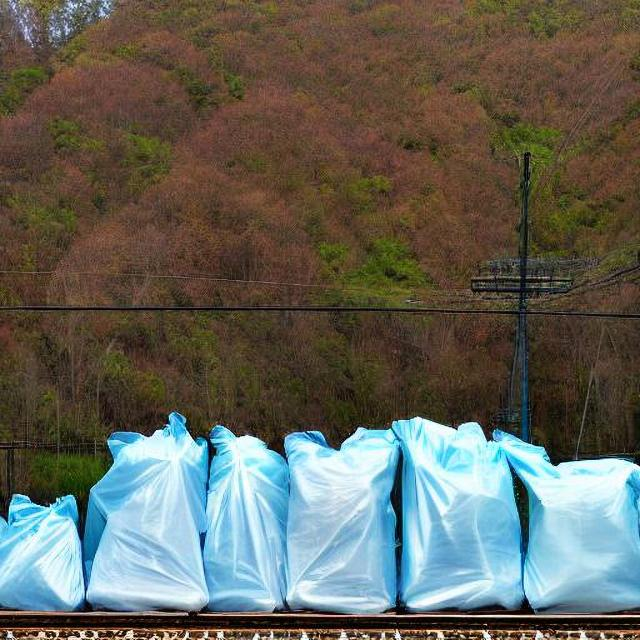floating object: (22, 424, 621, 626), (255, 425, 560, 611), (6, 467, 211, 612), (83, 423, 221, 608), (490, 449, 636, 609)
